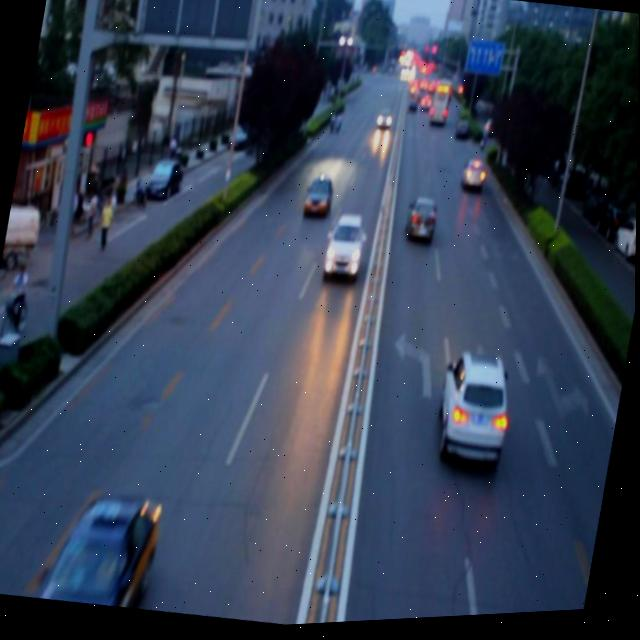car: (32, 485, 165, 616), (429, 346, 520, 477), (321, 212, 369, 286), (402, 198, 441, 251), (300, 176, 335, 225), (458, 160, 488, 197)
